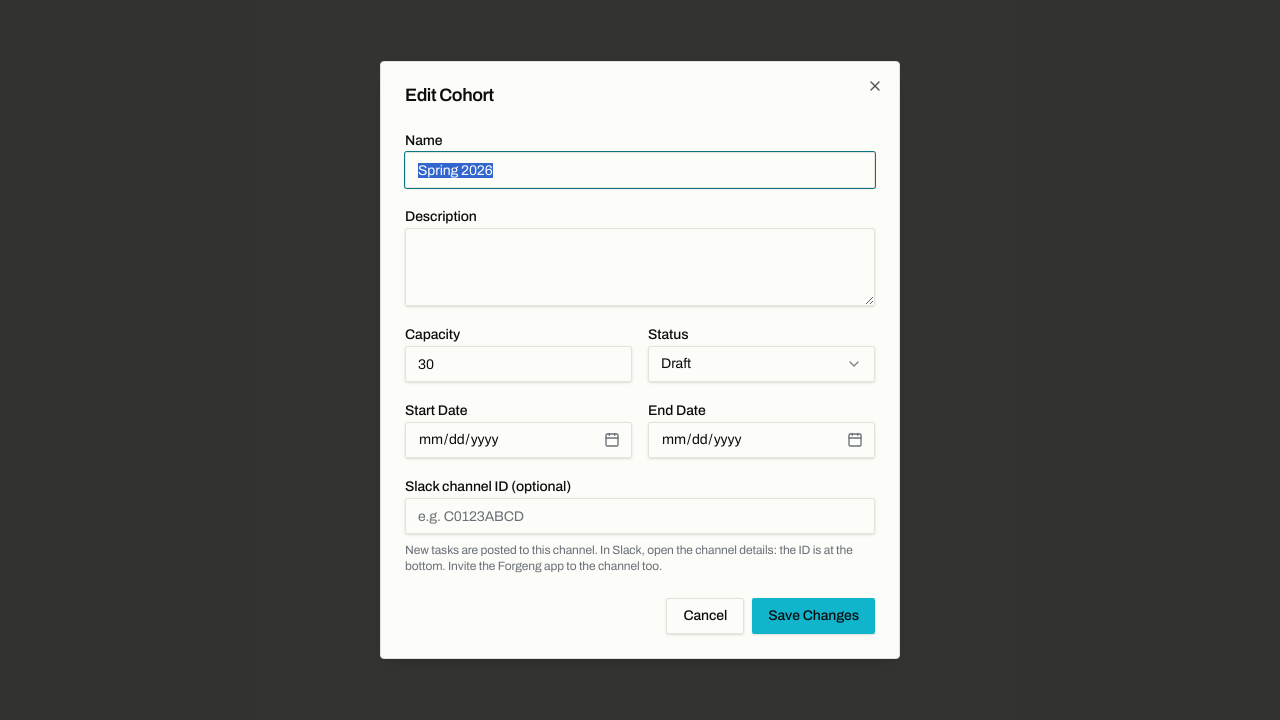
Test: cohort FormDialog › does not save a capacity below the enrolled count
Replace the text in the number field labelled "Capacity" with "4": (518, 364) [405,346,632,382]
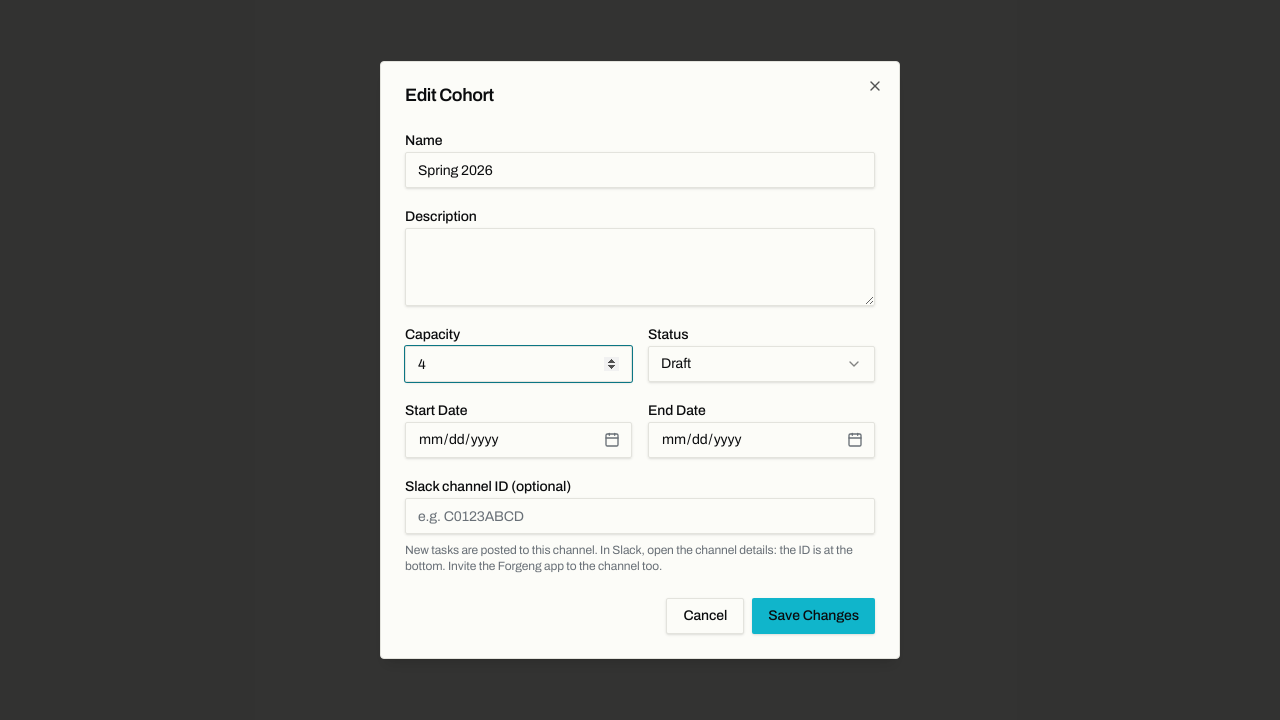
Click the button "Save Changes": (814, 616) [752,598,875,634]
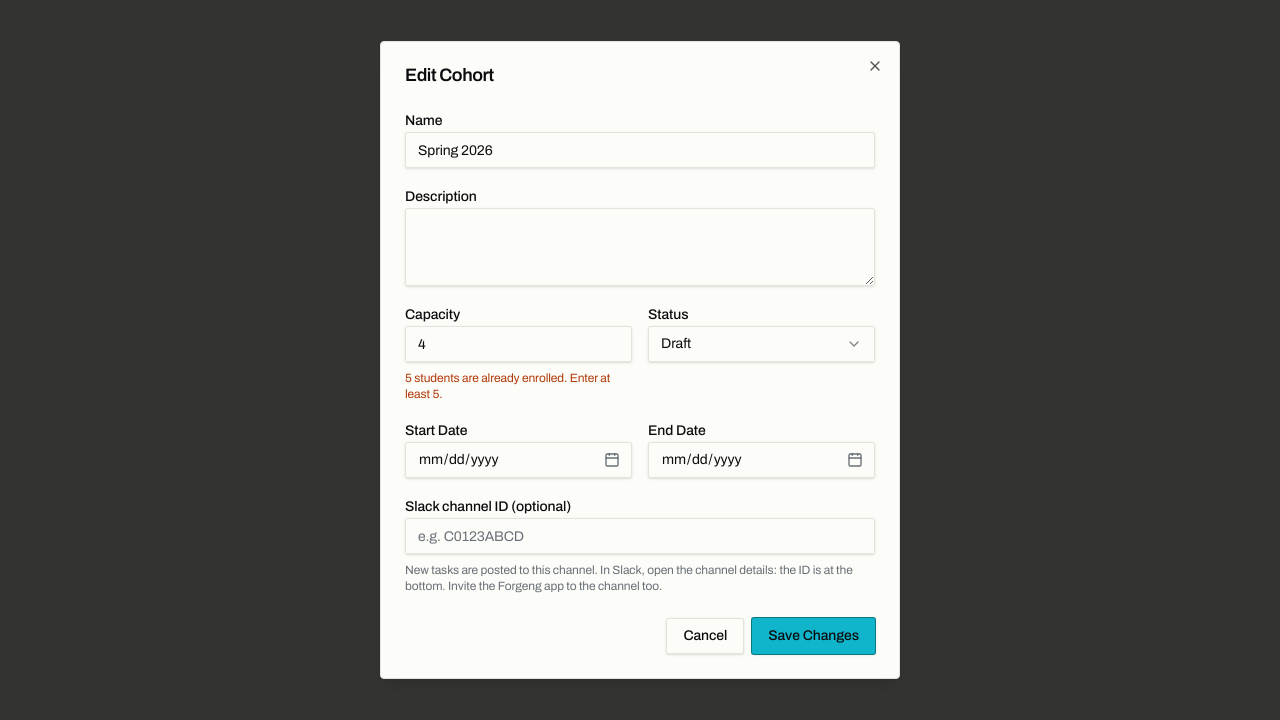
Check: the text "5 students are already enrolled. Enter at least 5." is shown, box [405,370,632,402]
